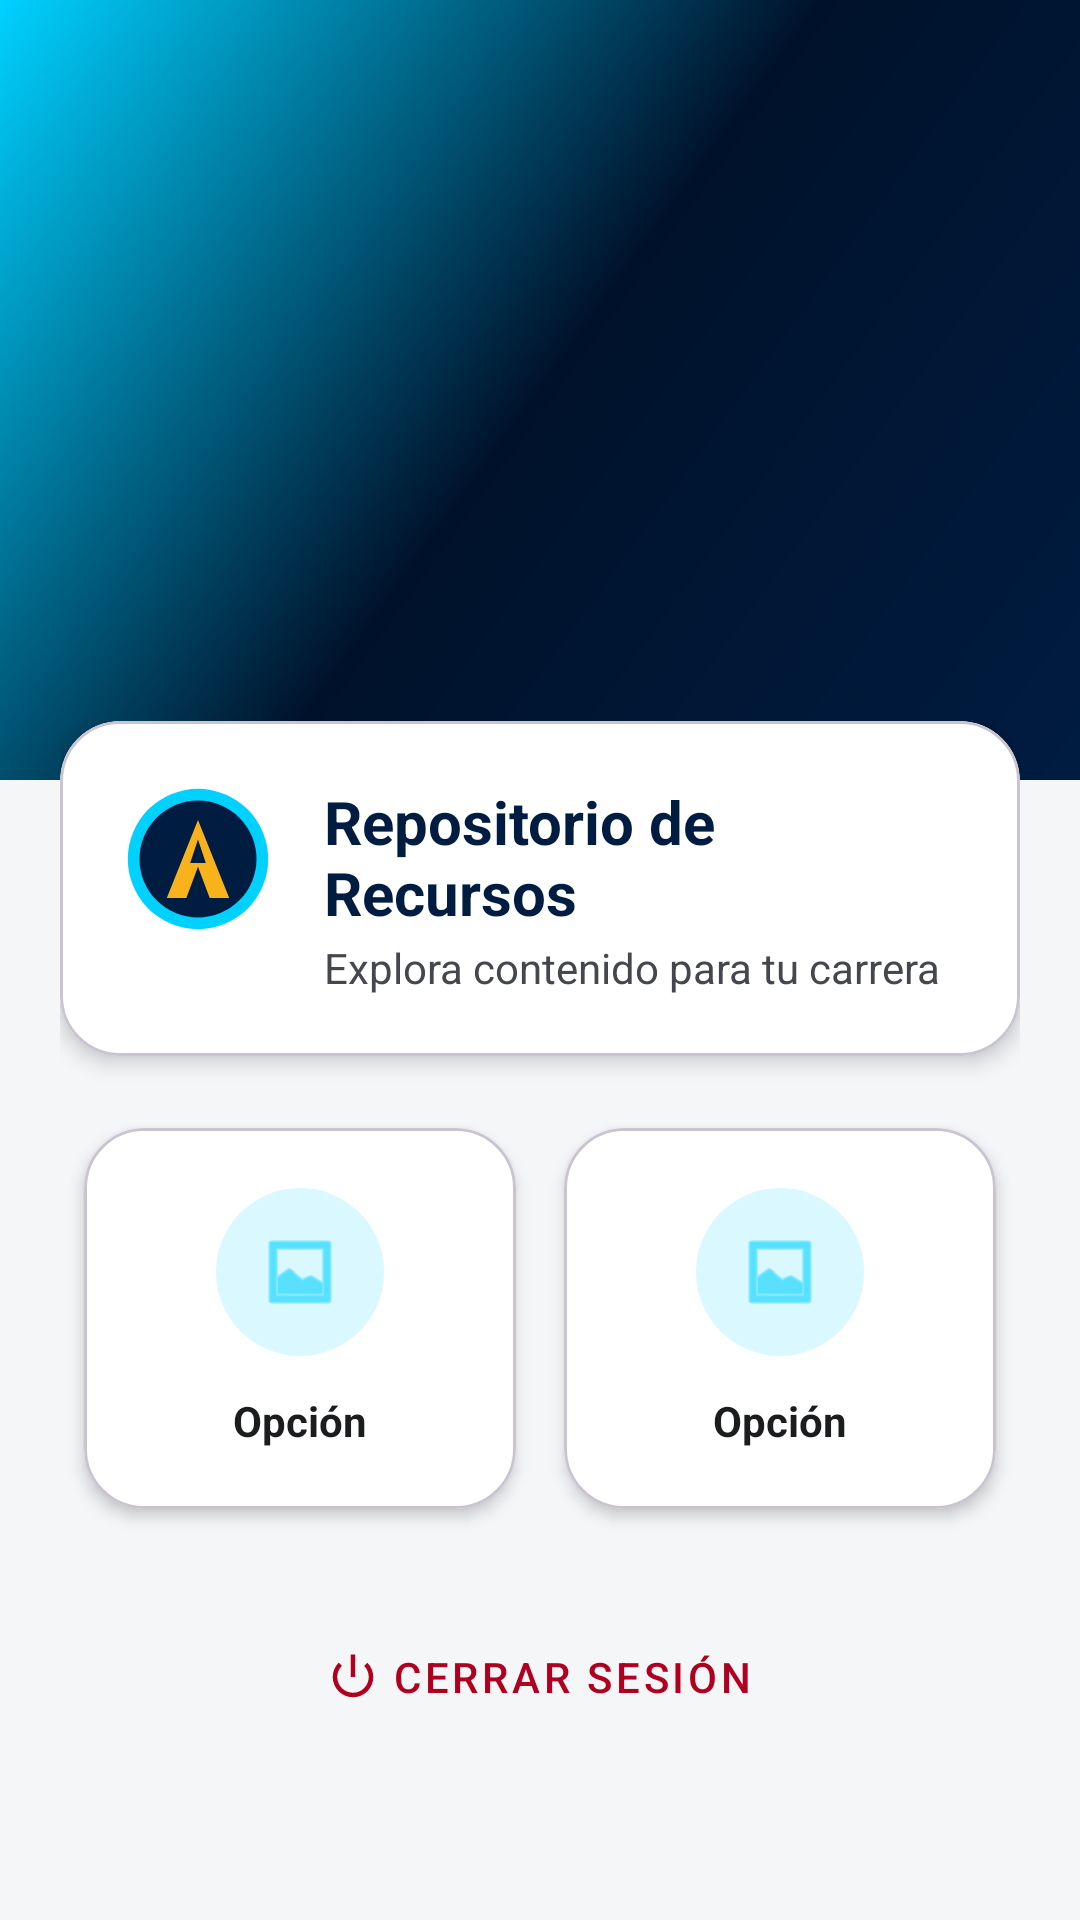

Icons on this 1080x1920 Android screen, each with its box as [x1, y1, x2, y2]:
gallery: [268, 1240, 332, 1304], [748, 1240, 812, 1304]
